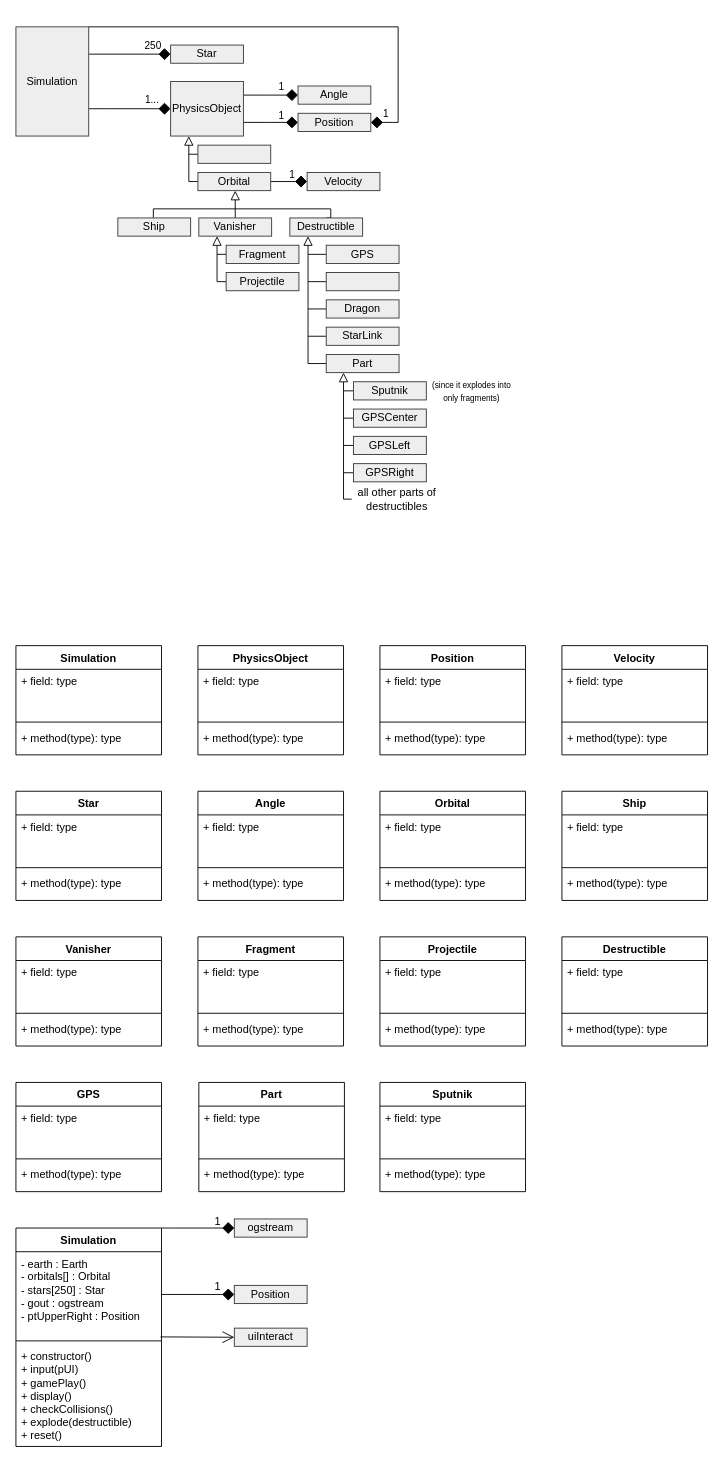
The diagram is 723 pixels wide and 1465 high, and some of its shapes have lost their labels. Each missing label, with the centre of its shape:
"Earth" belongs at pixel 234 153.
"Hubble" belongs at pixel 362 281.
